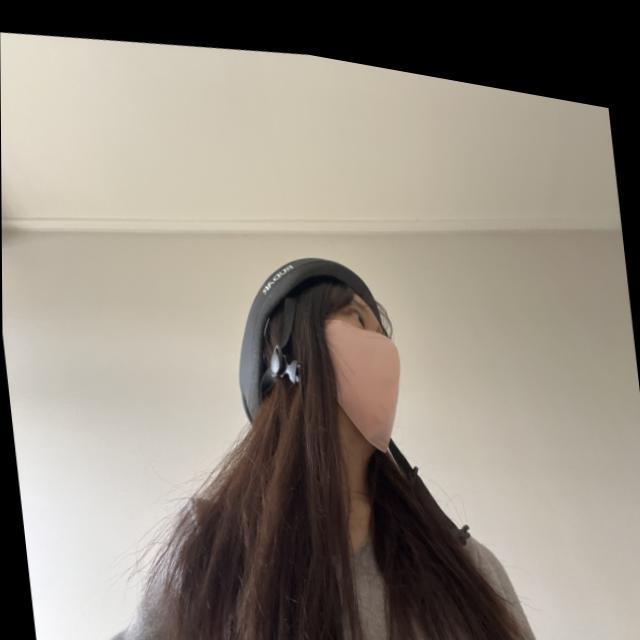Helmet: (228, 252, 422, 456)
